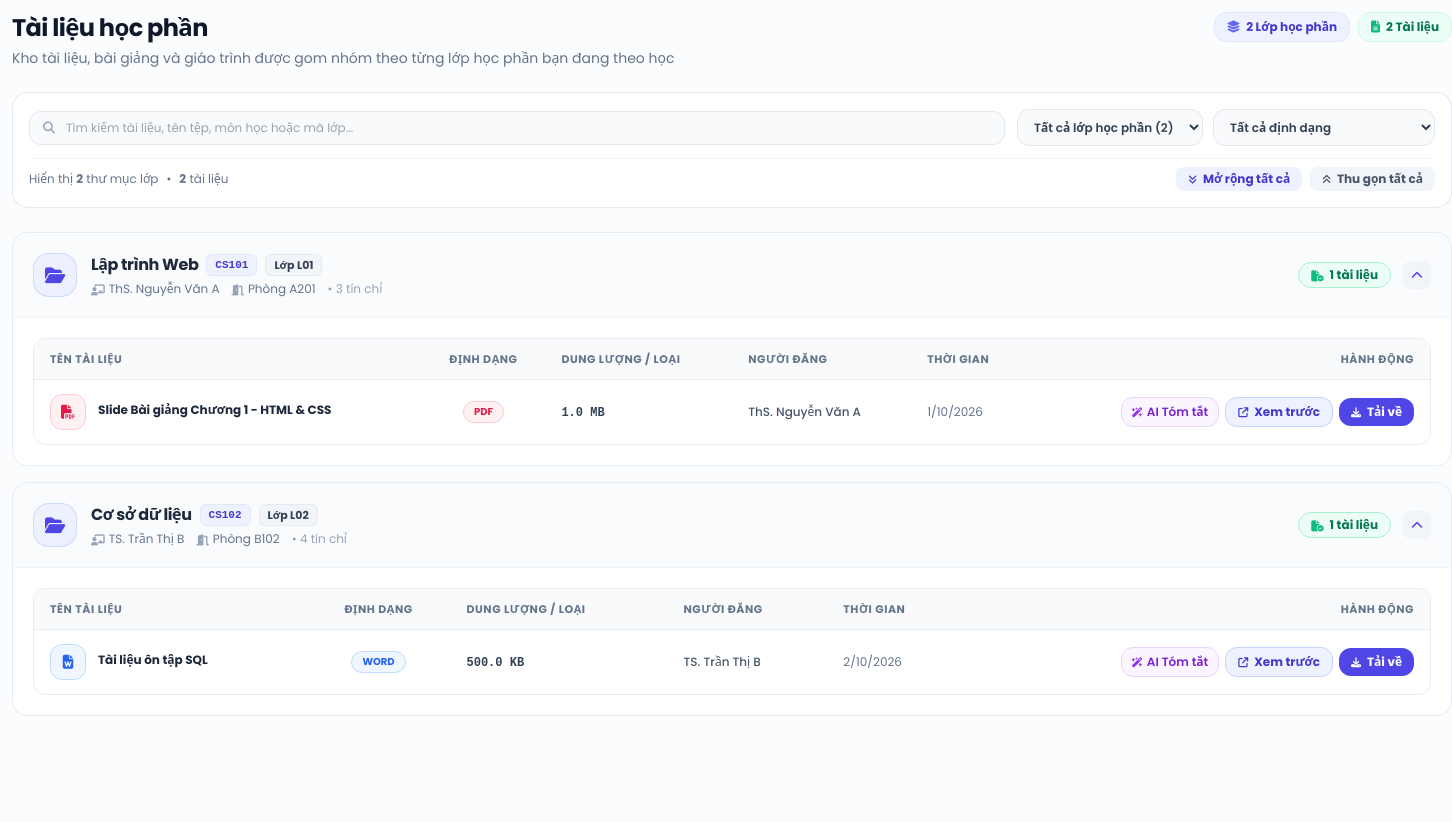
it: StudentDocumentList (Grouped by Class) › allows collapsing and expanding class folders
expect the link "Slide Bài giảng Chương 1 - HTML & CSS" is shown: met, box [98,402,331,418]
// Click "Thu gọn tất cả"
Click the button "Thu gọn tất cả": point(1373, 179) [1310,167,1435,191]
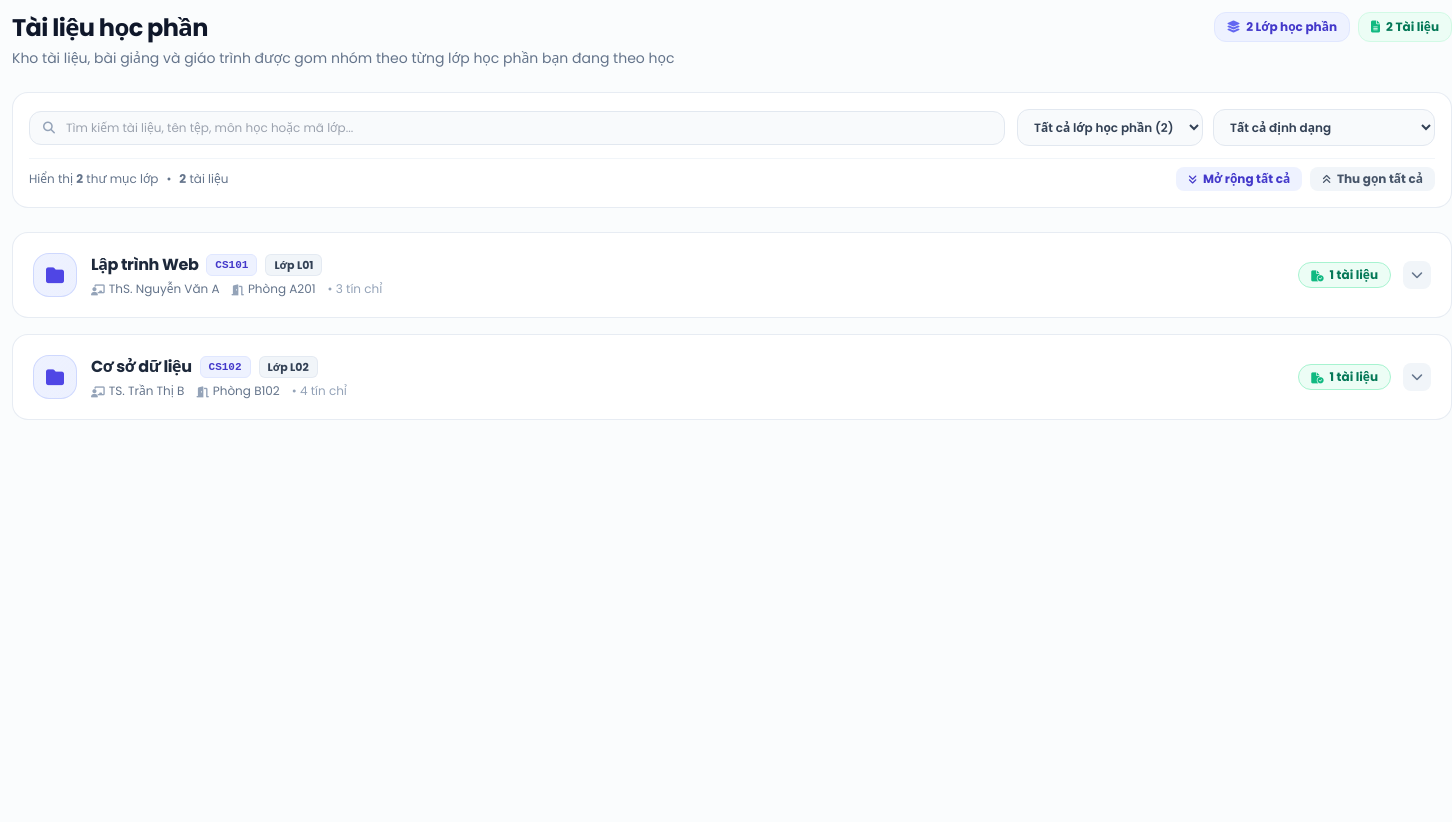
expect the link "Slide Bài giảng Chương 1 - HTML & CSS" is gone: met
// Click "Mở rộng tất cả"
Click the button "Mở rộng tất cả": point(1239, 179) [1176,167,1302,191]
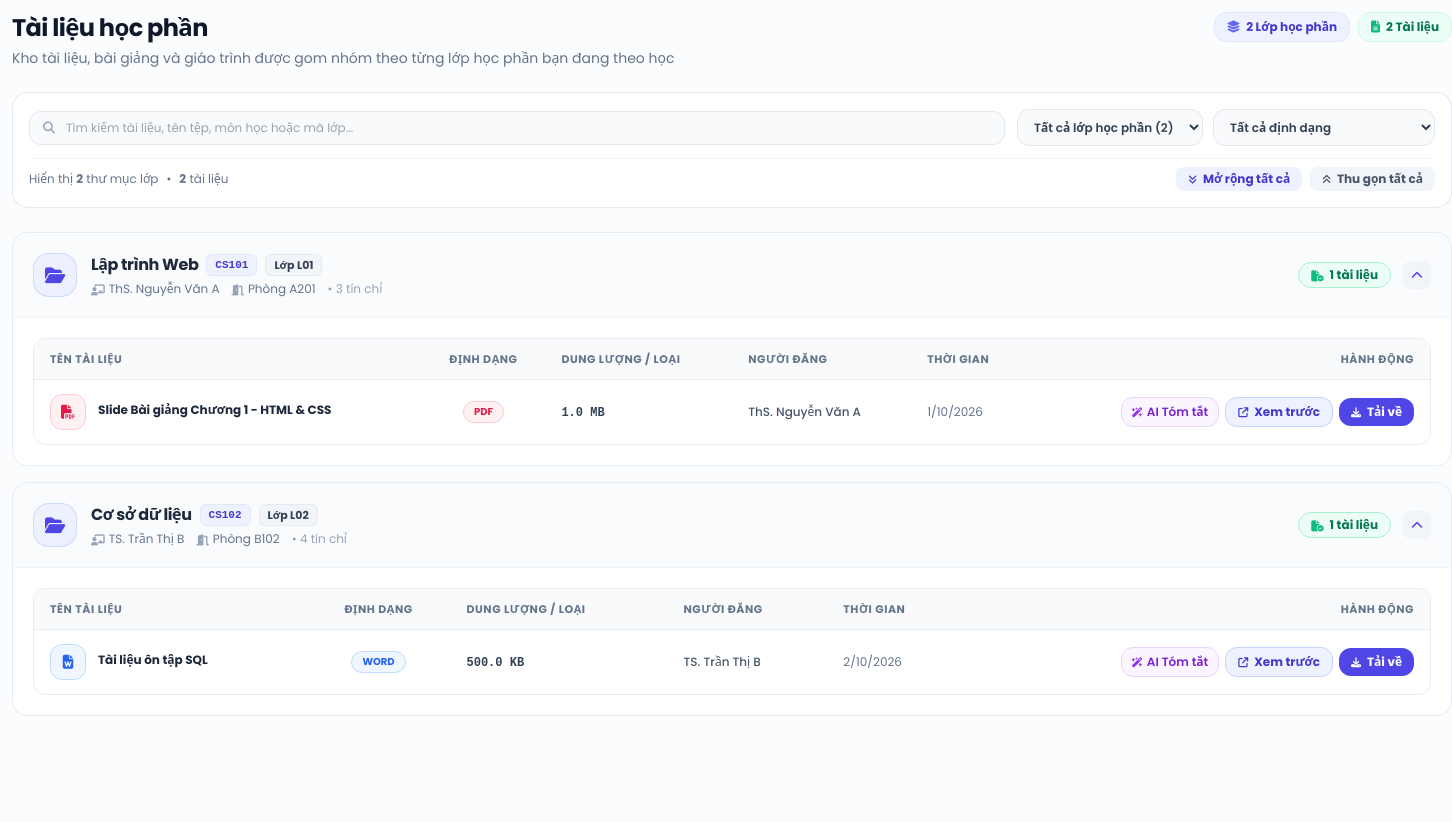
expect the link "Slide Bài giảng Chương 1 - HTML & CSS" is shown: met, box [98,402,331,418]
